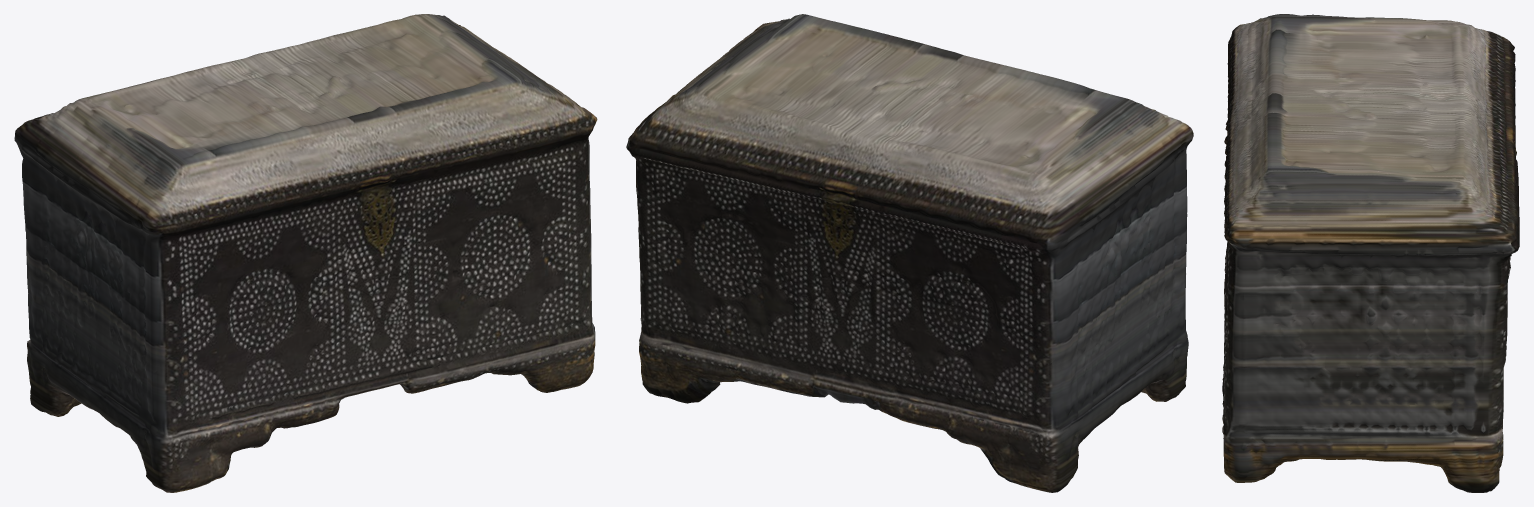
The model's file is kfl-2300.glb.
The picture shows the model from 3 angles, left to right: view 1: azimuth 30°, elevation 25°; view 2: azimuth 150°, elevation 25°; view 3: azimuth 270°, elevation 25°; orthographic projection. The views are drawn at different scales.
Visible parts, largest first — view 1: kfl-2300.glb; view 2: kfl-2300.glb; view 3: kfl-2300.glb.
Boxes of the visible parts, box(x1,y1,x2,y2) form: kfl-2300.glb: box(14, 14, 597, 492); kfl-2300.glb: box(626, 14, 1193, 492); kfl-2300.glb: box(1222, 14, 1519, 492).
Bounding box in the file's own units: 1 × 0.6797 × 0.598.
Materials: 1 (1 with a texture image).
